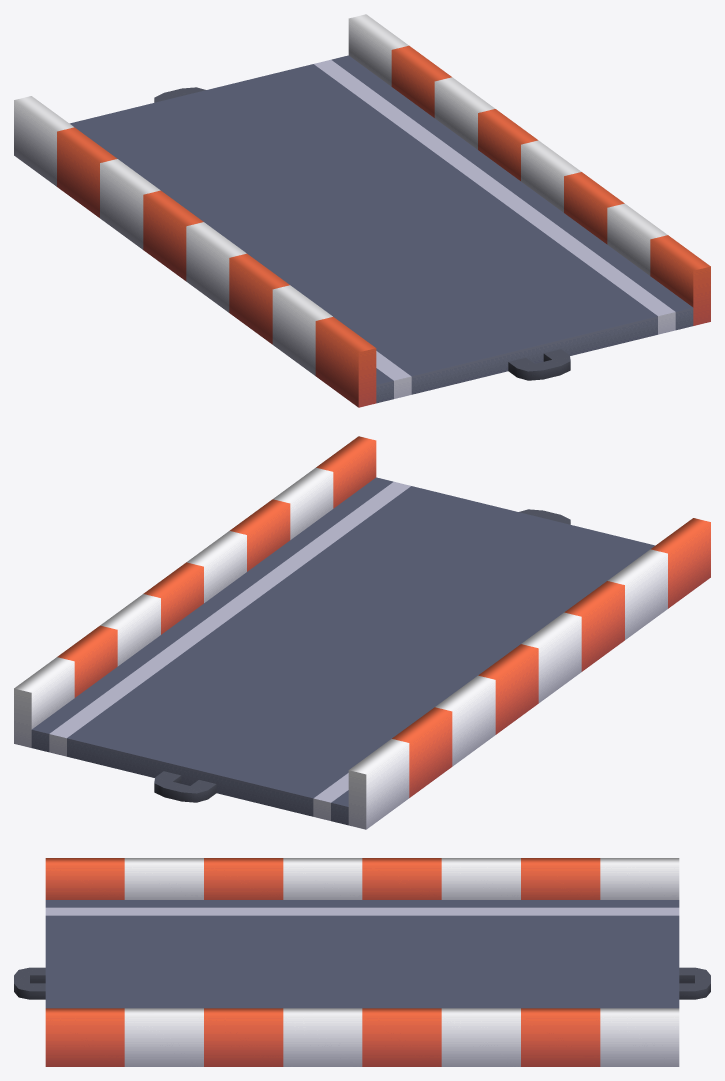
The model's file is track-road-wide-straight.glb.
3 views of the same model, one above another, from view 1: azimuth 30°, elevation 25°; view 2: azimuth 150°, elevation 25°; view 3: azimuth 270°, elevation 25° (orthographic). The views are drawn at different scales.
Parts seen in each view (by area): view 1: track-road-wide-straight; view 2: track-road-wide-straight; view 3: track-road-wide-straight.
Part boxes in pixels (x1,y1,x2,y2): track-road-wide-straight: (14, 14, 710, 407); track-road-wide-straight: (14, 436, 710, 829); track-road-wide-straight: (14, 858, 710, 1066).
Bounding box in the file's own units: 2 × 0.3 × 3.73.
Materials: 1 (1 with a texture image).
